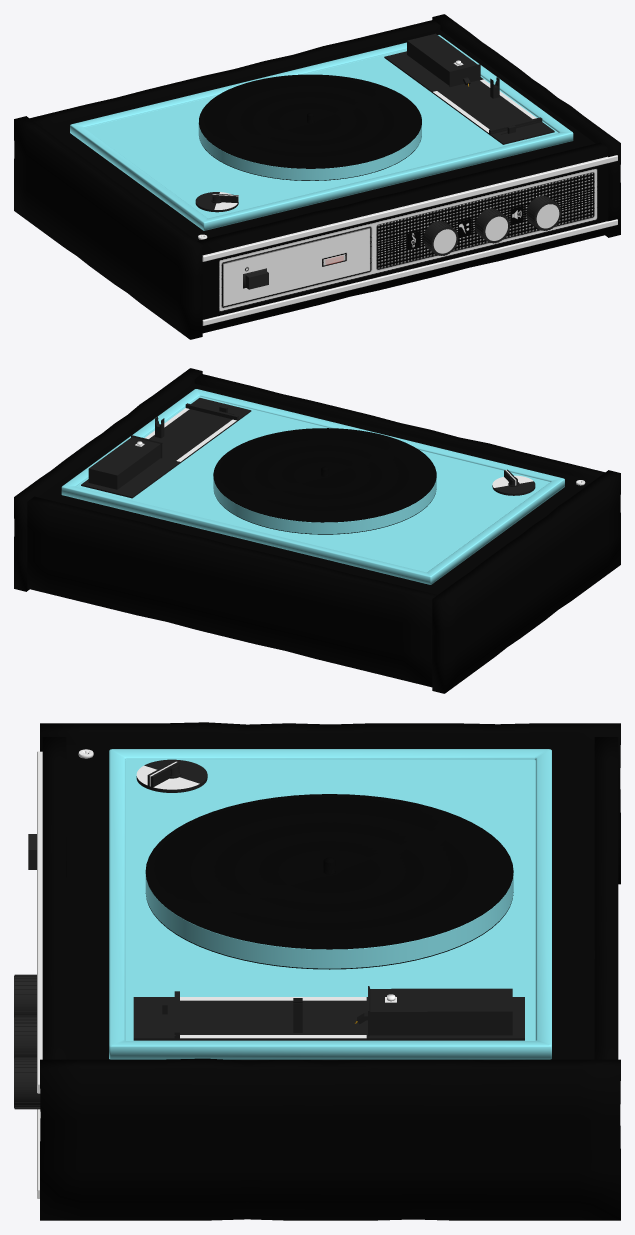
File: vinyl.glb
The picture shows the model from 3 angles, top to bottom: view 1: azimuth 30°, elevation 25°; view 2: azimuth 150°, elevation 25°; view 3: azimuth 270°, elevation 25°; orthographic projection. The views are drawn at different scales.
Visible parts, largest first — view 1: Plane.004, Cube, Plane.003, Cylinder.009, Plane.002, Plane.007, Cube.006, Plane.001, Plane.008, Cube.004, Cylinder.002, Cylinder.003 (+2 smaller); view 2: Plane.001, Plane.004, Plane.003, Cylinder.009, Plane.007, Plane.002, Plane.008, Cube.006, Cube.004, Cylinder.008; view 3: Plane.008, Plane.004, Cylinder.009, Plane.007, Plane.003, Cube.006, Plane.002, Plane.001, Cube.004, Cube, Cylinder.008, Cylinder.003 (+2 smaller).
Boxes of the visible parts, box(x1,y1,x2,y2) form: Plane.004: box(70, 35, 573, 230); Cube: box(202, 155, 617, 325); Plane.003: box(14, 116, 202, 339); Cylinder.009: box(198, 74, 421, 180); Plane.002: box(197, 142, 607, 333); Plane.007: box(42, 29, 595, 240); Cube.006: box(384, 51, 554, 144); Plane.001: box(30, 20, 440, 126); Plane.008: box(432, 14, 620, 237); Cube.004: box(407, 33, 480, 86); Cylinder.002: box(475, 208, 510, 243); Cylinder.003: box(526, 195, 561, 230); Plane.001: box(27, 496, 437, 687); Plane.004: box(61, 389, 564, 584); Plane.003: box(432, 470, 620, 693); Cylinder.009: box(213, 428, 436, 534); Plane.007: box(39, 384, 592, 594); Plane.002: box(194, 374, 604, 480); Plane.008: box(14, 368, 202, 591); Cube.006: box(81, 398, 251, 498); Cube.004: box(88, 435, 162, 489); Cylinder.008: box(492, 469, 535, 495); Plane.008: box(40, 1058, 620, 1220); Plane.004: box(109, 749, 551, 1059); Cylinder.009: box(145, 794, 513, 969); Plane.007: box(66, 744, 594, 1060); Plane.003: box(40, 722, 620, 884); Cube.006: box(133, 991, 524, 1040); Plane.002: box(42, 737, 66, 1059); Plane.001: box(594, 737, 618, 1059); Cube.004: box(357, 986, 512, 1036); Cube: box(37, 751, 42, 1198); Cylinder.008: box(136, 759, 207, 792); Cylinder.003: box(14, 1057, 40, 1109).
Bounding box in the file's own units: 0.5193 × 0.1283 × 0.3847.
18 materials, 5 textured.
